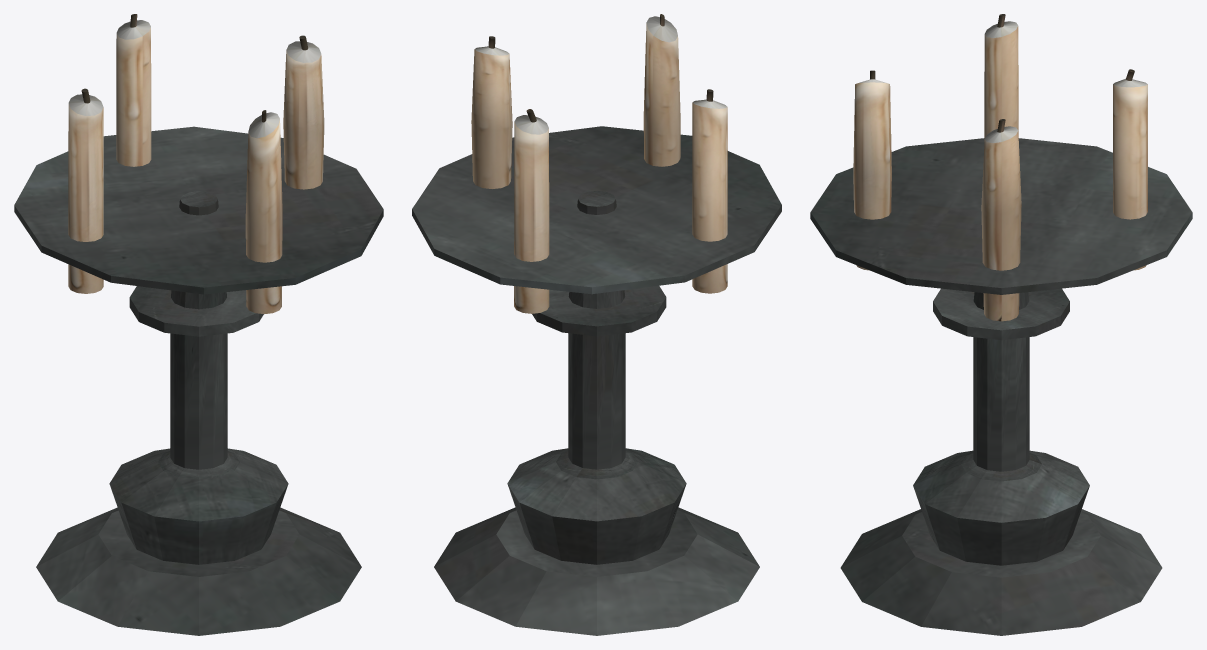
File: Candle.glb
3 renders of one model, left to right at view 1: azimuth 30°, elevation 25°; view 2: azimuth 150°, elevation 25°; view 3: azimuth 270°, elevation 25°, orthographic.
Visible parts, largest first — view 1: Cylinder.001; view 2: Cylinder.001; view 3: Cylinder.001.
Boxes of the visible parts, x1,y1,x2,y2 form: Cylinder.001: (14, 14, 383, 635); Cylinder.001: (412, 14, 781, 635); Cylinder.001: (810, 14, 1192, 635).
Size of the model in its own units: 0.469 by 0.7178 by 0.4986.
Materials: 1 (1 with a texture image).
